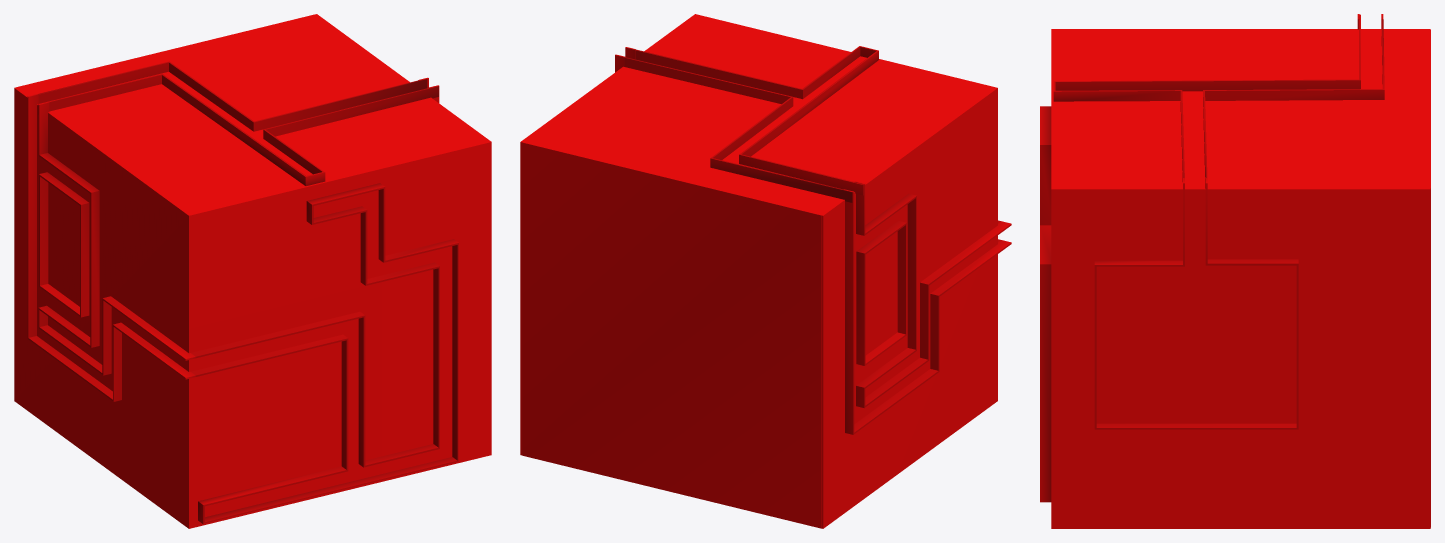
The picture shows the model from 3 angles, left to right: view 1: azimuth 30°, elevation 25°; view 2: azimuth 150°, elevation 25°; view 3: azimuth 270°, elevation 25°; orthographic projection. The views are drawn at different scales.
Visible parts, largest first — view 1: core, front_ridges, crown_outer, end_outer, end_inner, crown_inner, inset_loop; view 2: rear_skin, core, crown_outer, end_outer, end_inner, crown_inner, inset_loop; view 3: core, crown_outer, front_ridges, return_ridges, crown_inner, rear_skin.
Part boxes in pixels (x1=…): core: x1=14, y1=14, x2=491, y2=528; front_ridges: x1=191, y1=183, x2=458, y2=524; crown_outer: x1=38, y1=74, x2=438, y2=185; end_outer: x1=38, y1=102, x2=195, y2=375; end_inner: x1=27, y1=94, x2=195, y2=401; crown_inner: x1=38, y1=61, x2=427, y2=131; inset_loop: x1=39, y1=172, x2=89, y2=317; rear_skin: x1=522, y1=142, x2=821, y2=528; core: x1=520, y1=14, x2=997, y2=528; crown_outer: x1=635, y1=46, x2=878, y2=195; end_outer: x1=854, y1=181, x2=1011, y2=407; end_inner: x1=843, y1=189, x2=1011, y2=434; crown_inner: x1=624, y1=57, x2=852, y2=202; inset_loop: x1=856, y1=221, x2=906, y2=365; core: x1=1051, y1=29, x2=1430, y2=528; crown_outer: x1=1053, y1=14, x2=1360, y2=181; front_ridges: x1=1040, y1=106, x2=1051, y2=502; return_ridges: x1=1094, y1=178, x2=1298, y2=429; crown_inner: x1=1203, y1=19, x2=1384, y2=188; rear_skin: x1=1430, y1=30, x2=1430, y2=527.
Size of the model in its own units: 0.3029 by 0.2923 by 0.2957.
